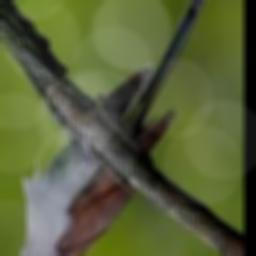Cuckoo: (6, 0, 216, 256)
